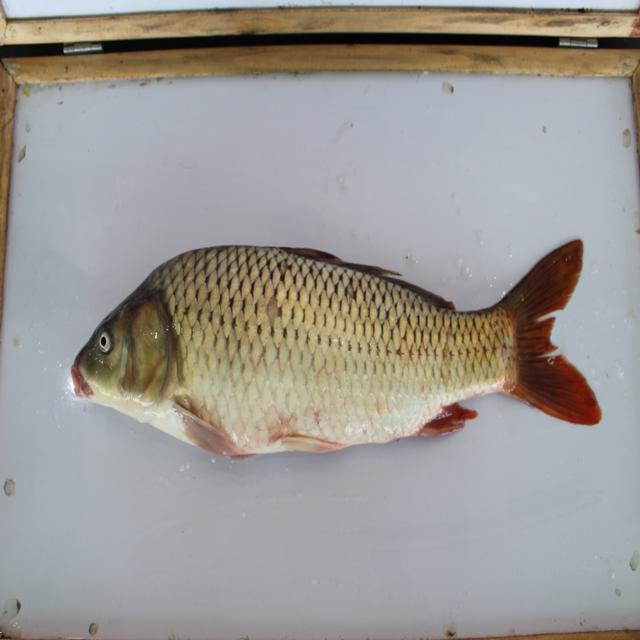CommonCarp: (67, 230, 607, 481)
